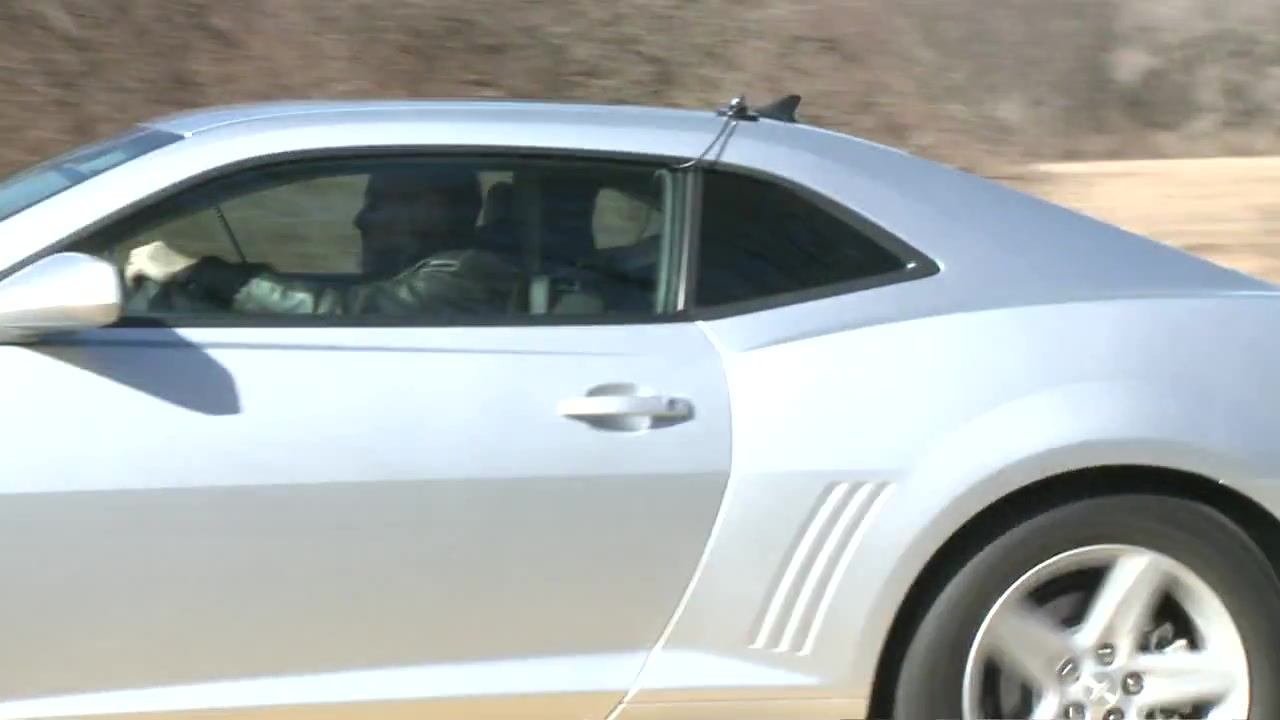car: (1, 92, 1279, 720)
